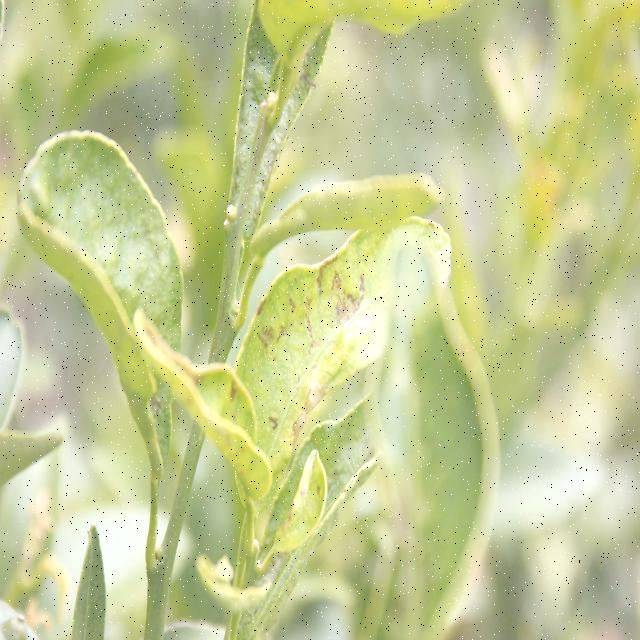canker: (256, 267, 371, 461), (212, 370, 248, 438), (303, 471, 330, 503)
